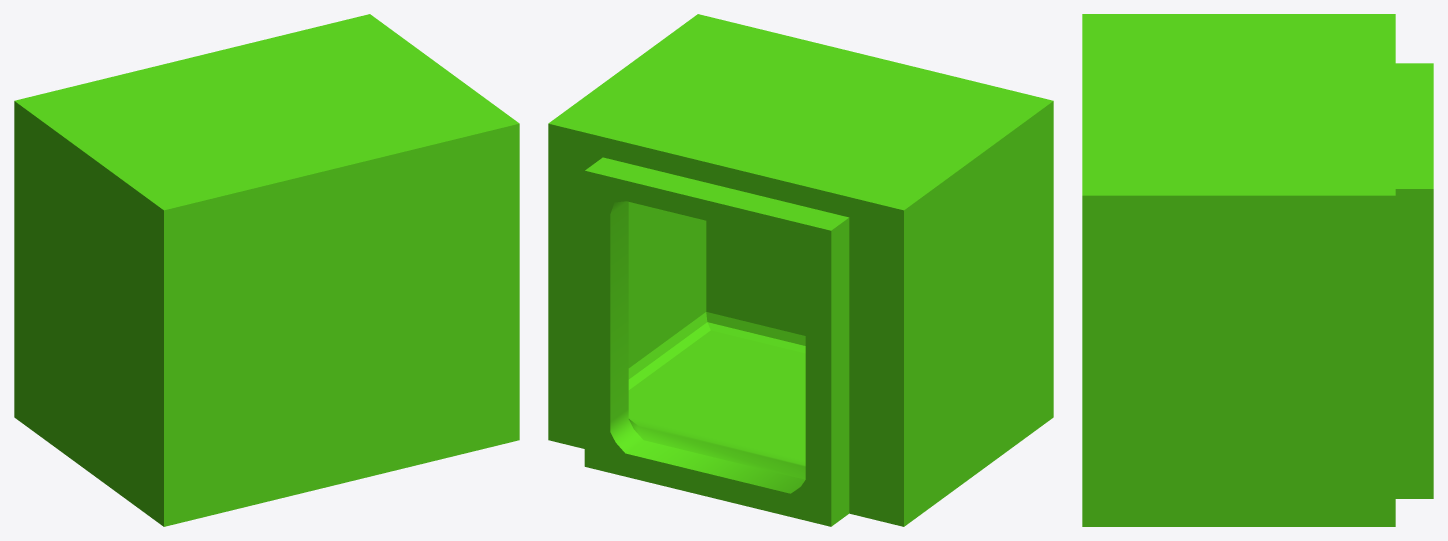
Rendered from SM_Elevator-Cart_E.fbx.
3 renders of one model, left to right at view 1: azimuth 30°, elevation 25°; view 2: azimuth 150°, elevation 25°; view 3: azimuth 270°, elevation 25°, orthographic. The views are drawn at different scales.
Visible parts, largest first — view 1: SM_Elevator-Cart_E; view 2: SM_Elevator-Cart_E; view 3: SM_Elevator-Cart_E.
Part boxes in pixels (box(x1,y1,x2,y2)): SM_Elevator-Cart_E: box(14, 14, 519, 526); SM_Elevator-Cart_E: box(548, 14, 1053, 526); SM_Elevator-Cart_E: box(1082, 14, 1433, 526).
Bounding box in the file's own units: 365 × 298 × 310.
